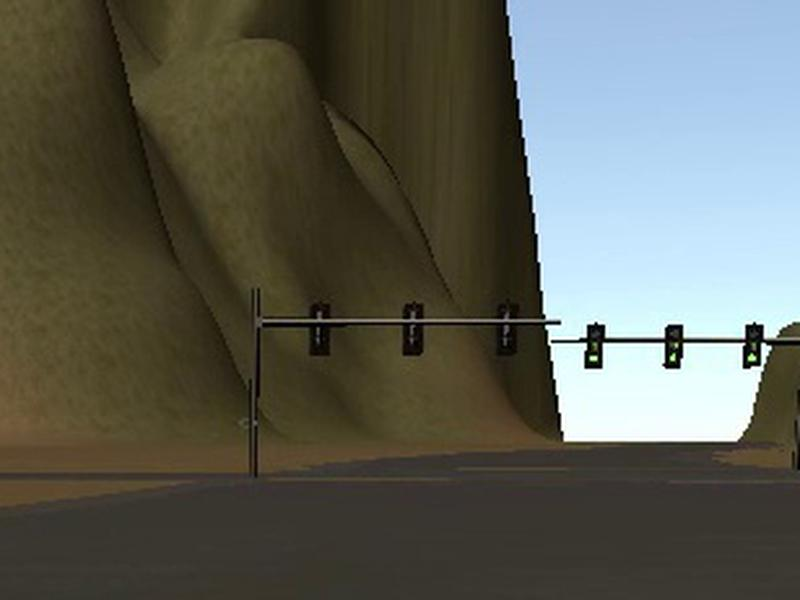Green: (662, 324, 685, 369), (742, 324, 764, 368), (584, 325, 606, 368)
